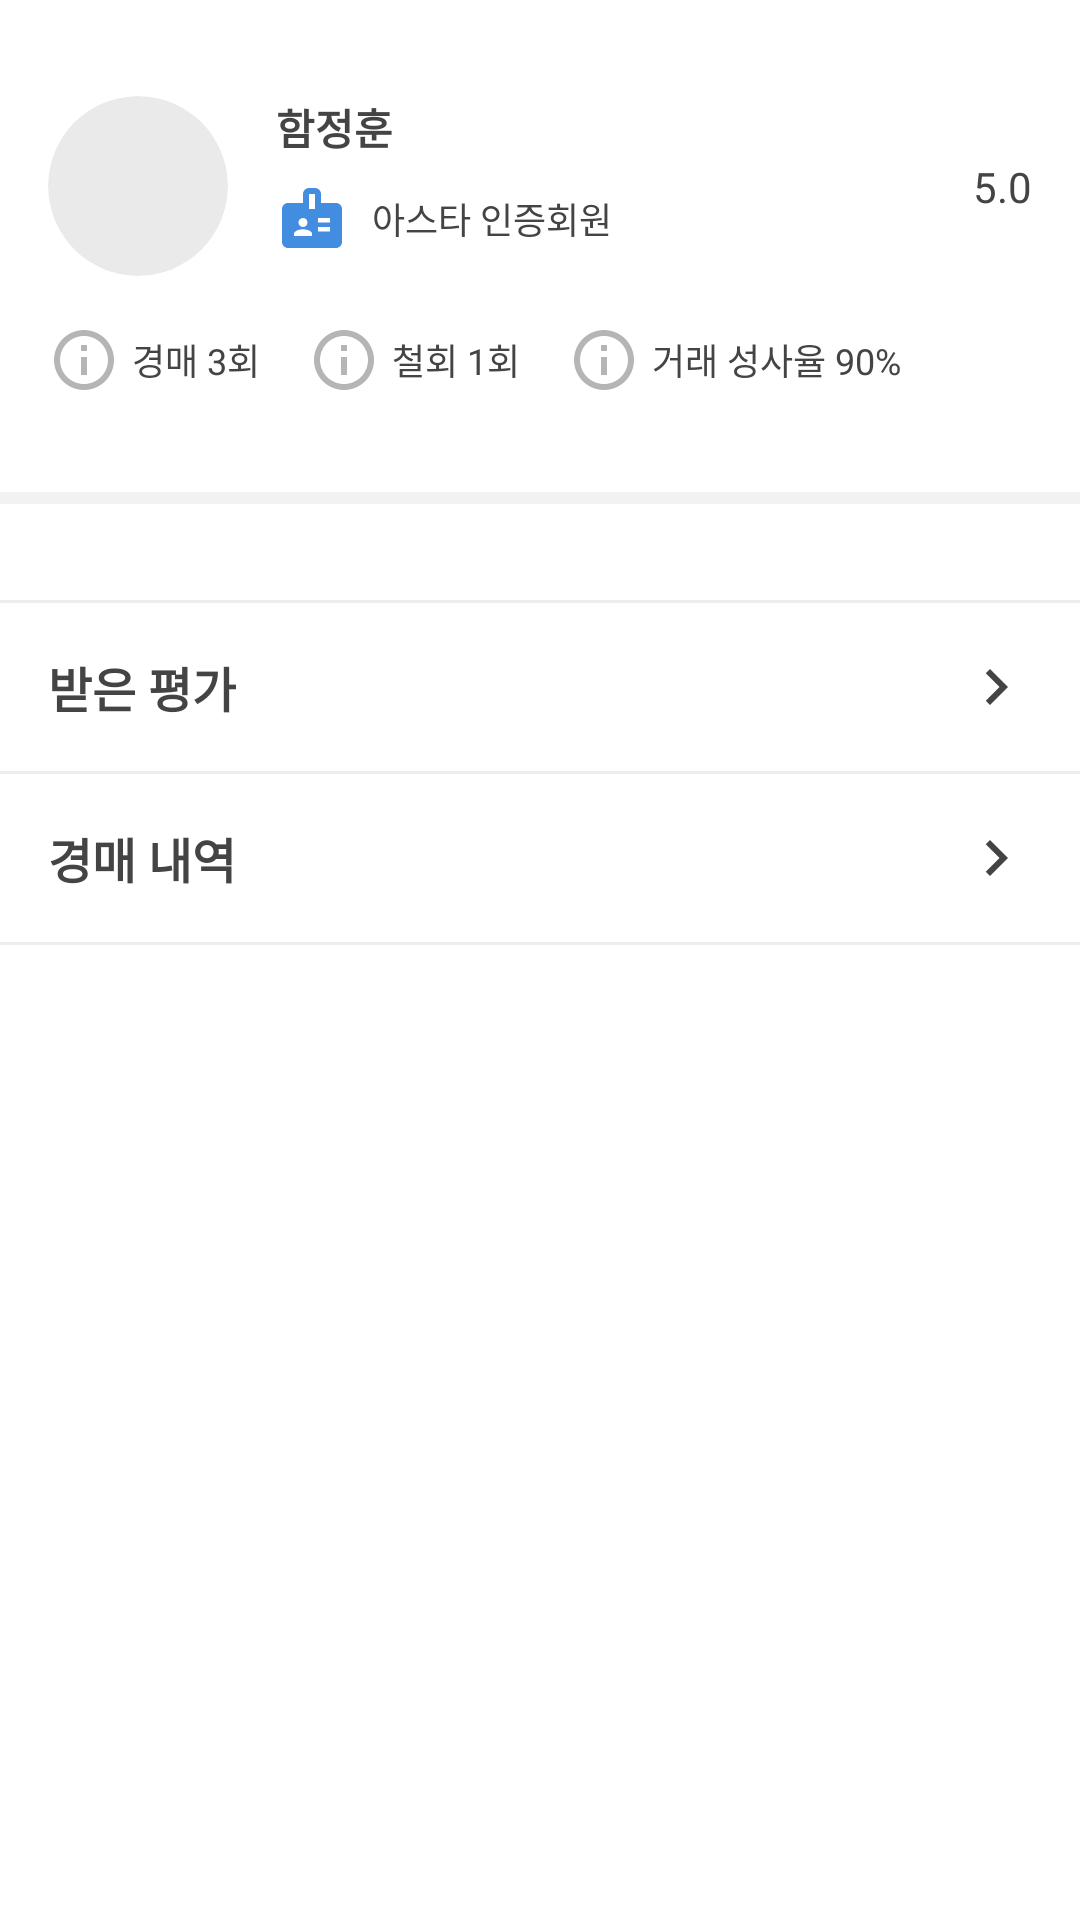

Icon bounding boxes for this 1080 x 1920 phone screenshot, format {"left": x1, "top": y1, "right": x2, "bottom": y2}:
badge: {"left": 282, "top": 188, "right": 342, "bottom": 248}
info: {"left": 54, "top": 330, "right": 114, "bottom": 390}, {"left": 314, "top": 330, "right": 374, "bottom": 390}, {"left": 574, "top": 330, "right": 634, "bottom": 390}
navigate next: {"left": 986, "top": 669, "right": 1008, "bottom": 705}, {"left": 986, "top": 840, "right": 1008, "bottom": 876}
